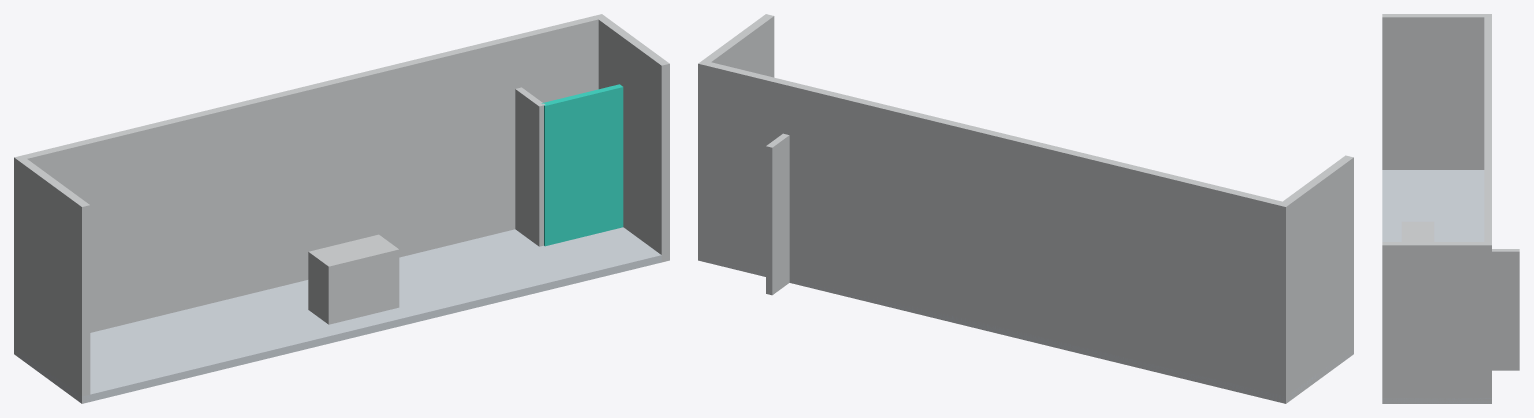
3 renders of one model, left to right at view 1: azimuth 30°, elevation 25°; view 2: azimuth 150°, elevation 25°; view 3: azimuth 270°, elevation 25°, orthographic. The views are drawn at different scales.
Visible parts, largest first — view 1: Exhibition Booth Concept; view 2: Exhibition Booth Concept; view 3: Exhibition Booth Concept.
Part boxes in pixels (<box>): Exhibition Booth Concept: <box>14,14,669,403</box>; Exhibition Booth Concept: <box>698,14,1353,403</box>; Exhibition Booth Concept: <box>1382,14,1519,403</box>.
Bounding box in the file's own units: 10 × 3.2 × 2.5.
